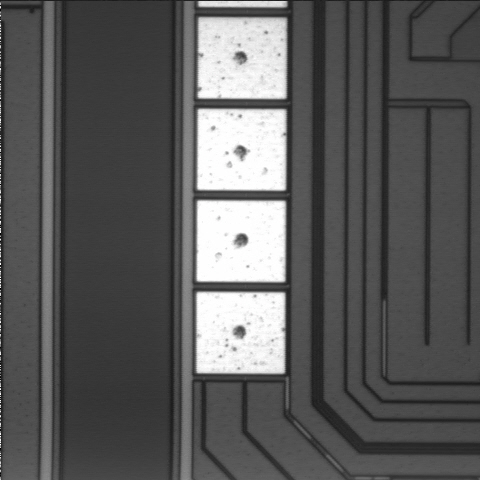pad: (197, 109, 286, 191), (197, 200, 286, 282), (196, 292, 285, 374), (198, 18, 286, 99)
